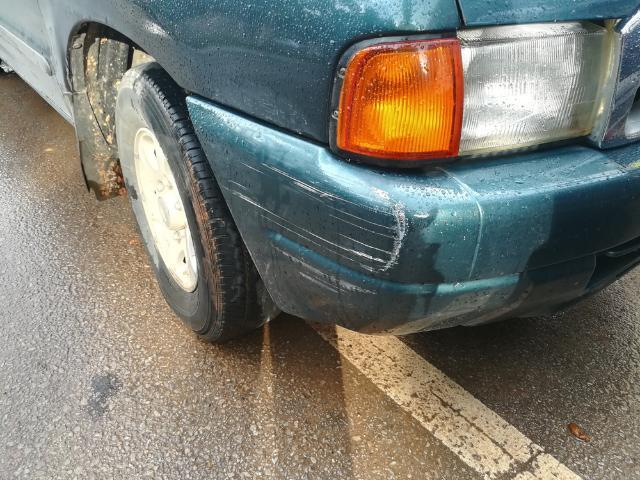rub: (232, 162, 407, 305)
